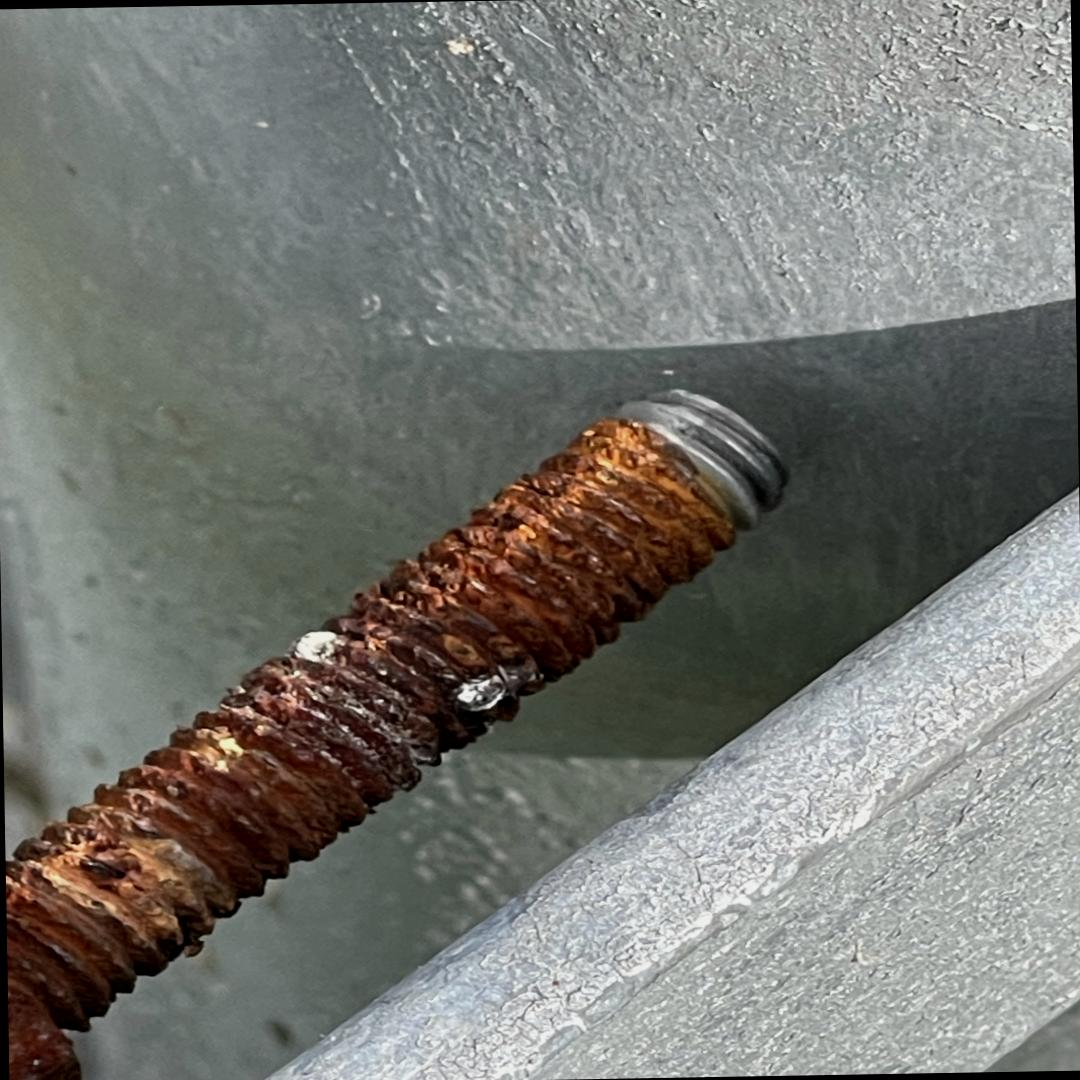Metal corroido: (6, 422, 741, 1080)
